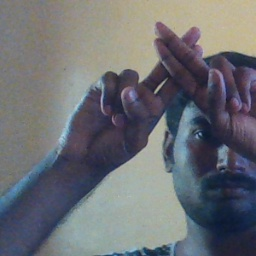F: (126, 14, 231, 126)
